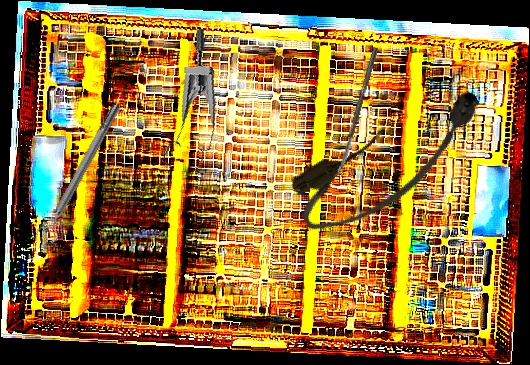Cannula: (282, 77, 502, 246)
Fixation Ring: (33, 99, 129, 246)
Speculum: (137, 28, 234, 181)
Surgical Spoon: (335, 46, 379, 178)
